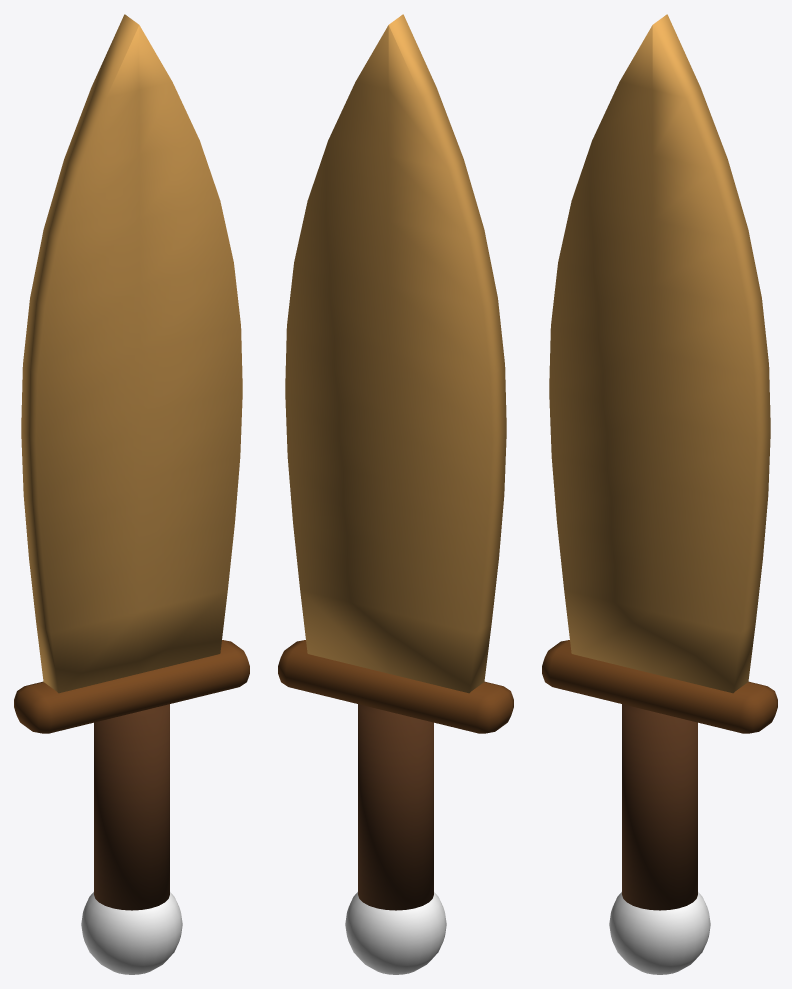
File: xifos.glb
The picture shows the model from 3 angles, left to right: view 1: azimuth 30°, elevation 25°; view 2: azimuth 150°, elevation 25°; view 3: azimuth 330°, elevation 25°; orthographic projection.
Parts seen in each view (by area): view 1: xifos_fijo; view 2: xifos_fijo; view 3: xifos_fijo.
Boxes of the visible parts, x1,y1,x2,y2 form: xifos_fijo: (14,14,249,974); xifos_fijo: (278,14,513,974); xifos_fijo: (542,14,777,974).
Bounding box in the file's own units: 0.3 × 1.24 × 0.12.
Materials: 2 (2 with a texture image).
